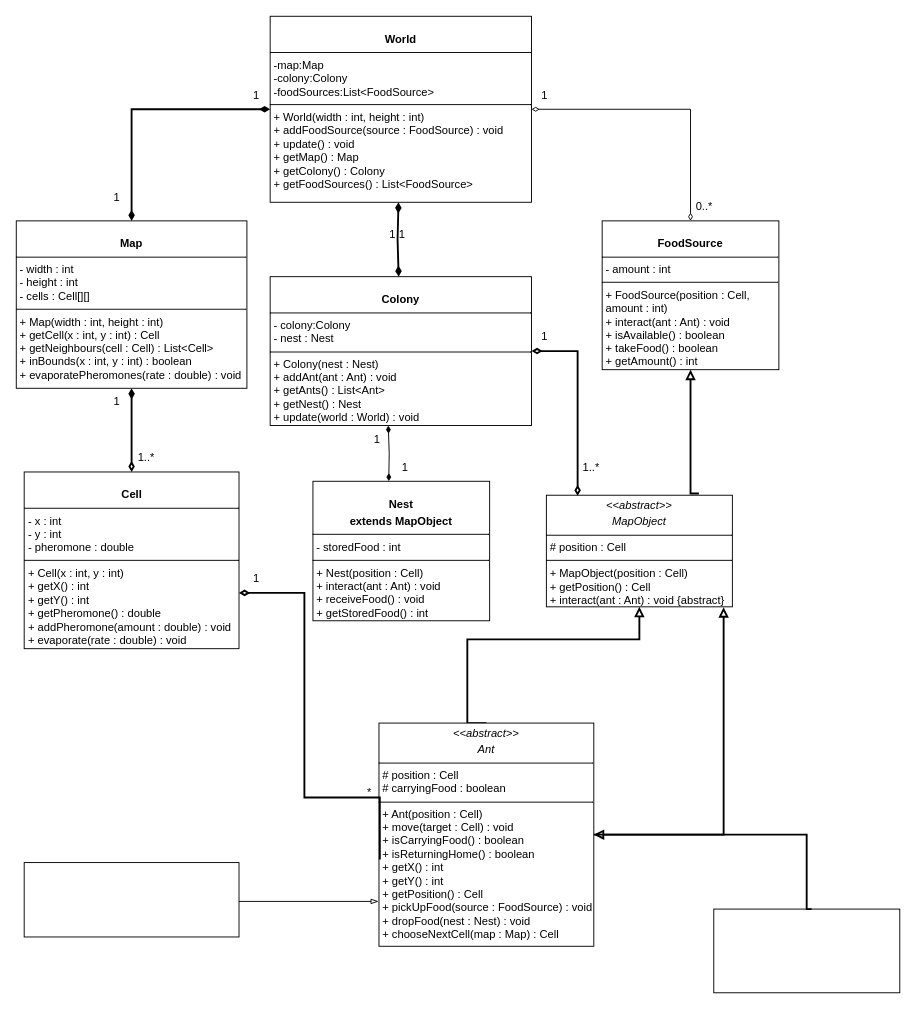
The diagram is 916 pixels wide and 1009 high, and some of its shapes have lost their labels. The shapes that lost their labels are listed below. From the top down, each one's centre as x and y in pixels, then its label:
At [131,899]: "Scout extend Ant + Scout(position : Cell) + chooseNextCell(map : Map) : Cell".
At [806,950]: "Forager + Forager(position : Cell) + chooseNextCell(map : Map) : Cell".
